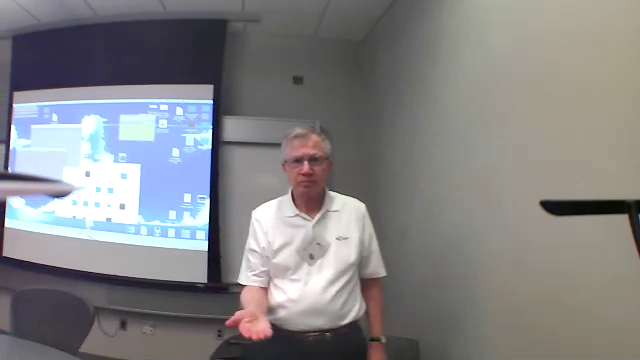land: (223, 307, 280, 347)
